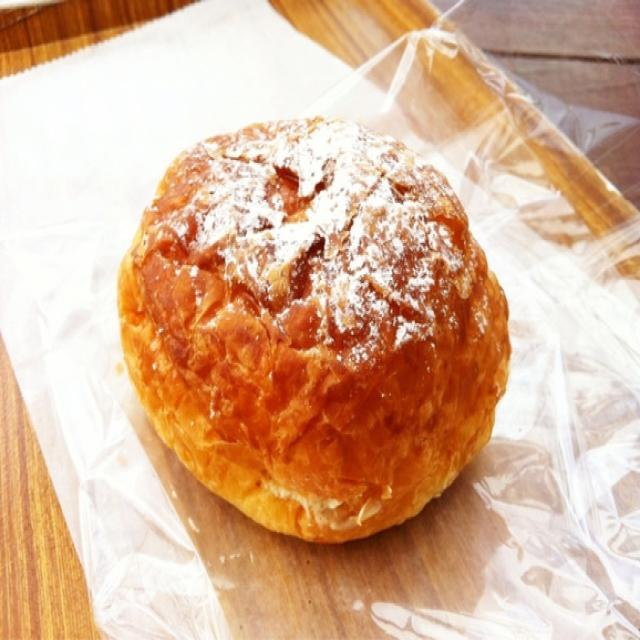炸货点心: (87, 50, 556, 541)
蛋糕甜品: (87, 50, 556, 541)
